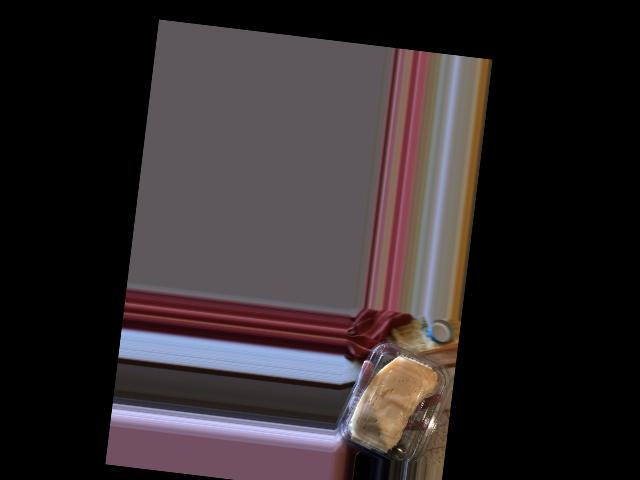cheese: (340, 335, 451, 466)
